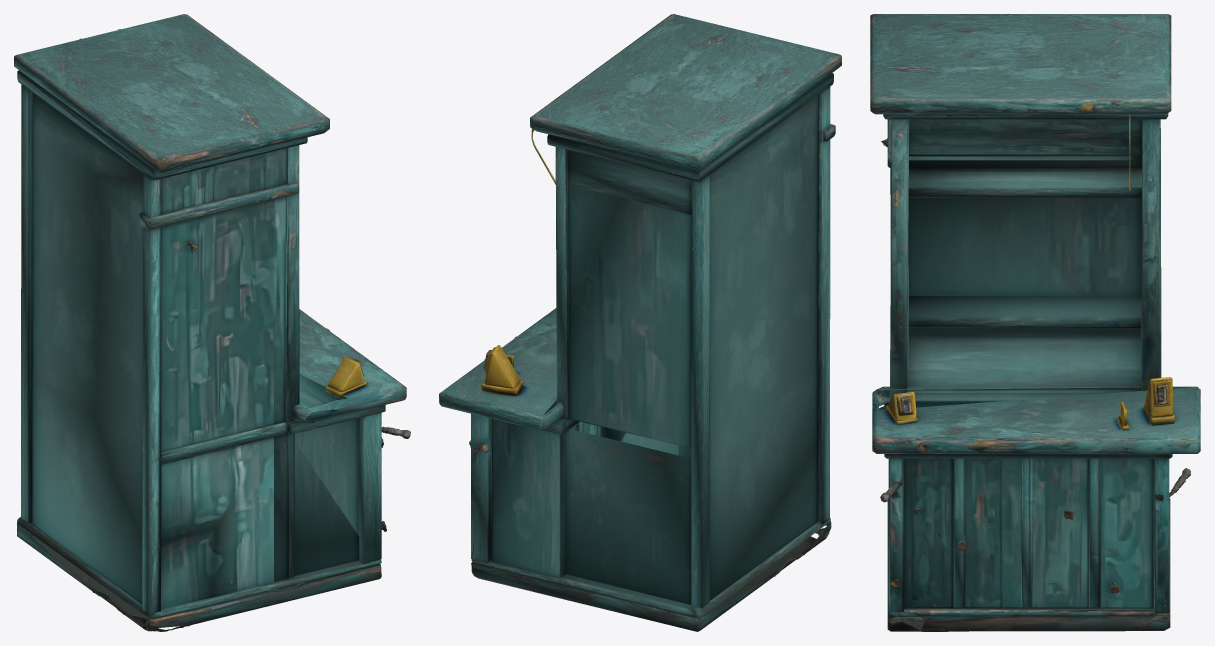
File: theme-ticket-counter-v05.glb
3 renders of one model, left to right at view 1: azimuth 30°, elevation 25°; view 2: azimuth 150°, elevation 25°; view 3: azimuth 270°, elevation 25°, orthographic. The views are drawn at different scales.
Parts seen in each view (by area): view 1: tripo_node_0c8d09be-95e3-4f80-a98c-1f1247b17ff9; view 2: tripo_node_0c8d09be-95e3-4f80-a98c-1f1247b17ff9; view 3: tripo_node_0c8d09be-95e3-4f80-a98c-1f1247b17ff9.
Part boxes in pixels (x1,y1,x2,y2): tripo_node_0c8d09be-95e3-4f80-a98c-1f1247b17ff9: (14, 14, 410, 631); tripo_node_0c8d09be-95e3-4f80-a98c-1f1247b17ff9: (439, 14, 841, 631); tripo_node_0c8d09be-95e3-4f80-a98c-1f1247b17ff9: (870, 14, 1200, 631).
Bounding box in the file's own units: 0.7069 × 1.25 × 0.7461.
Materials: 1 (1 with a texture image).
